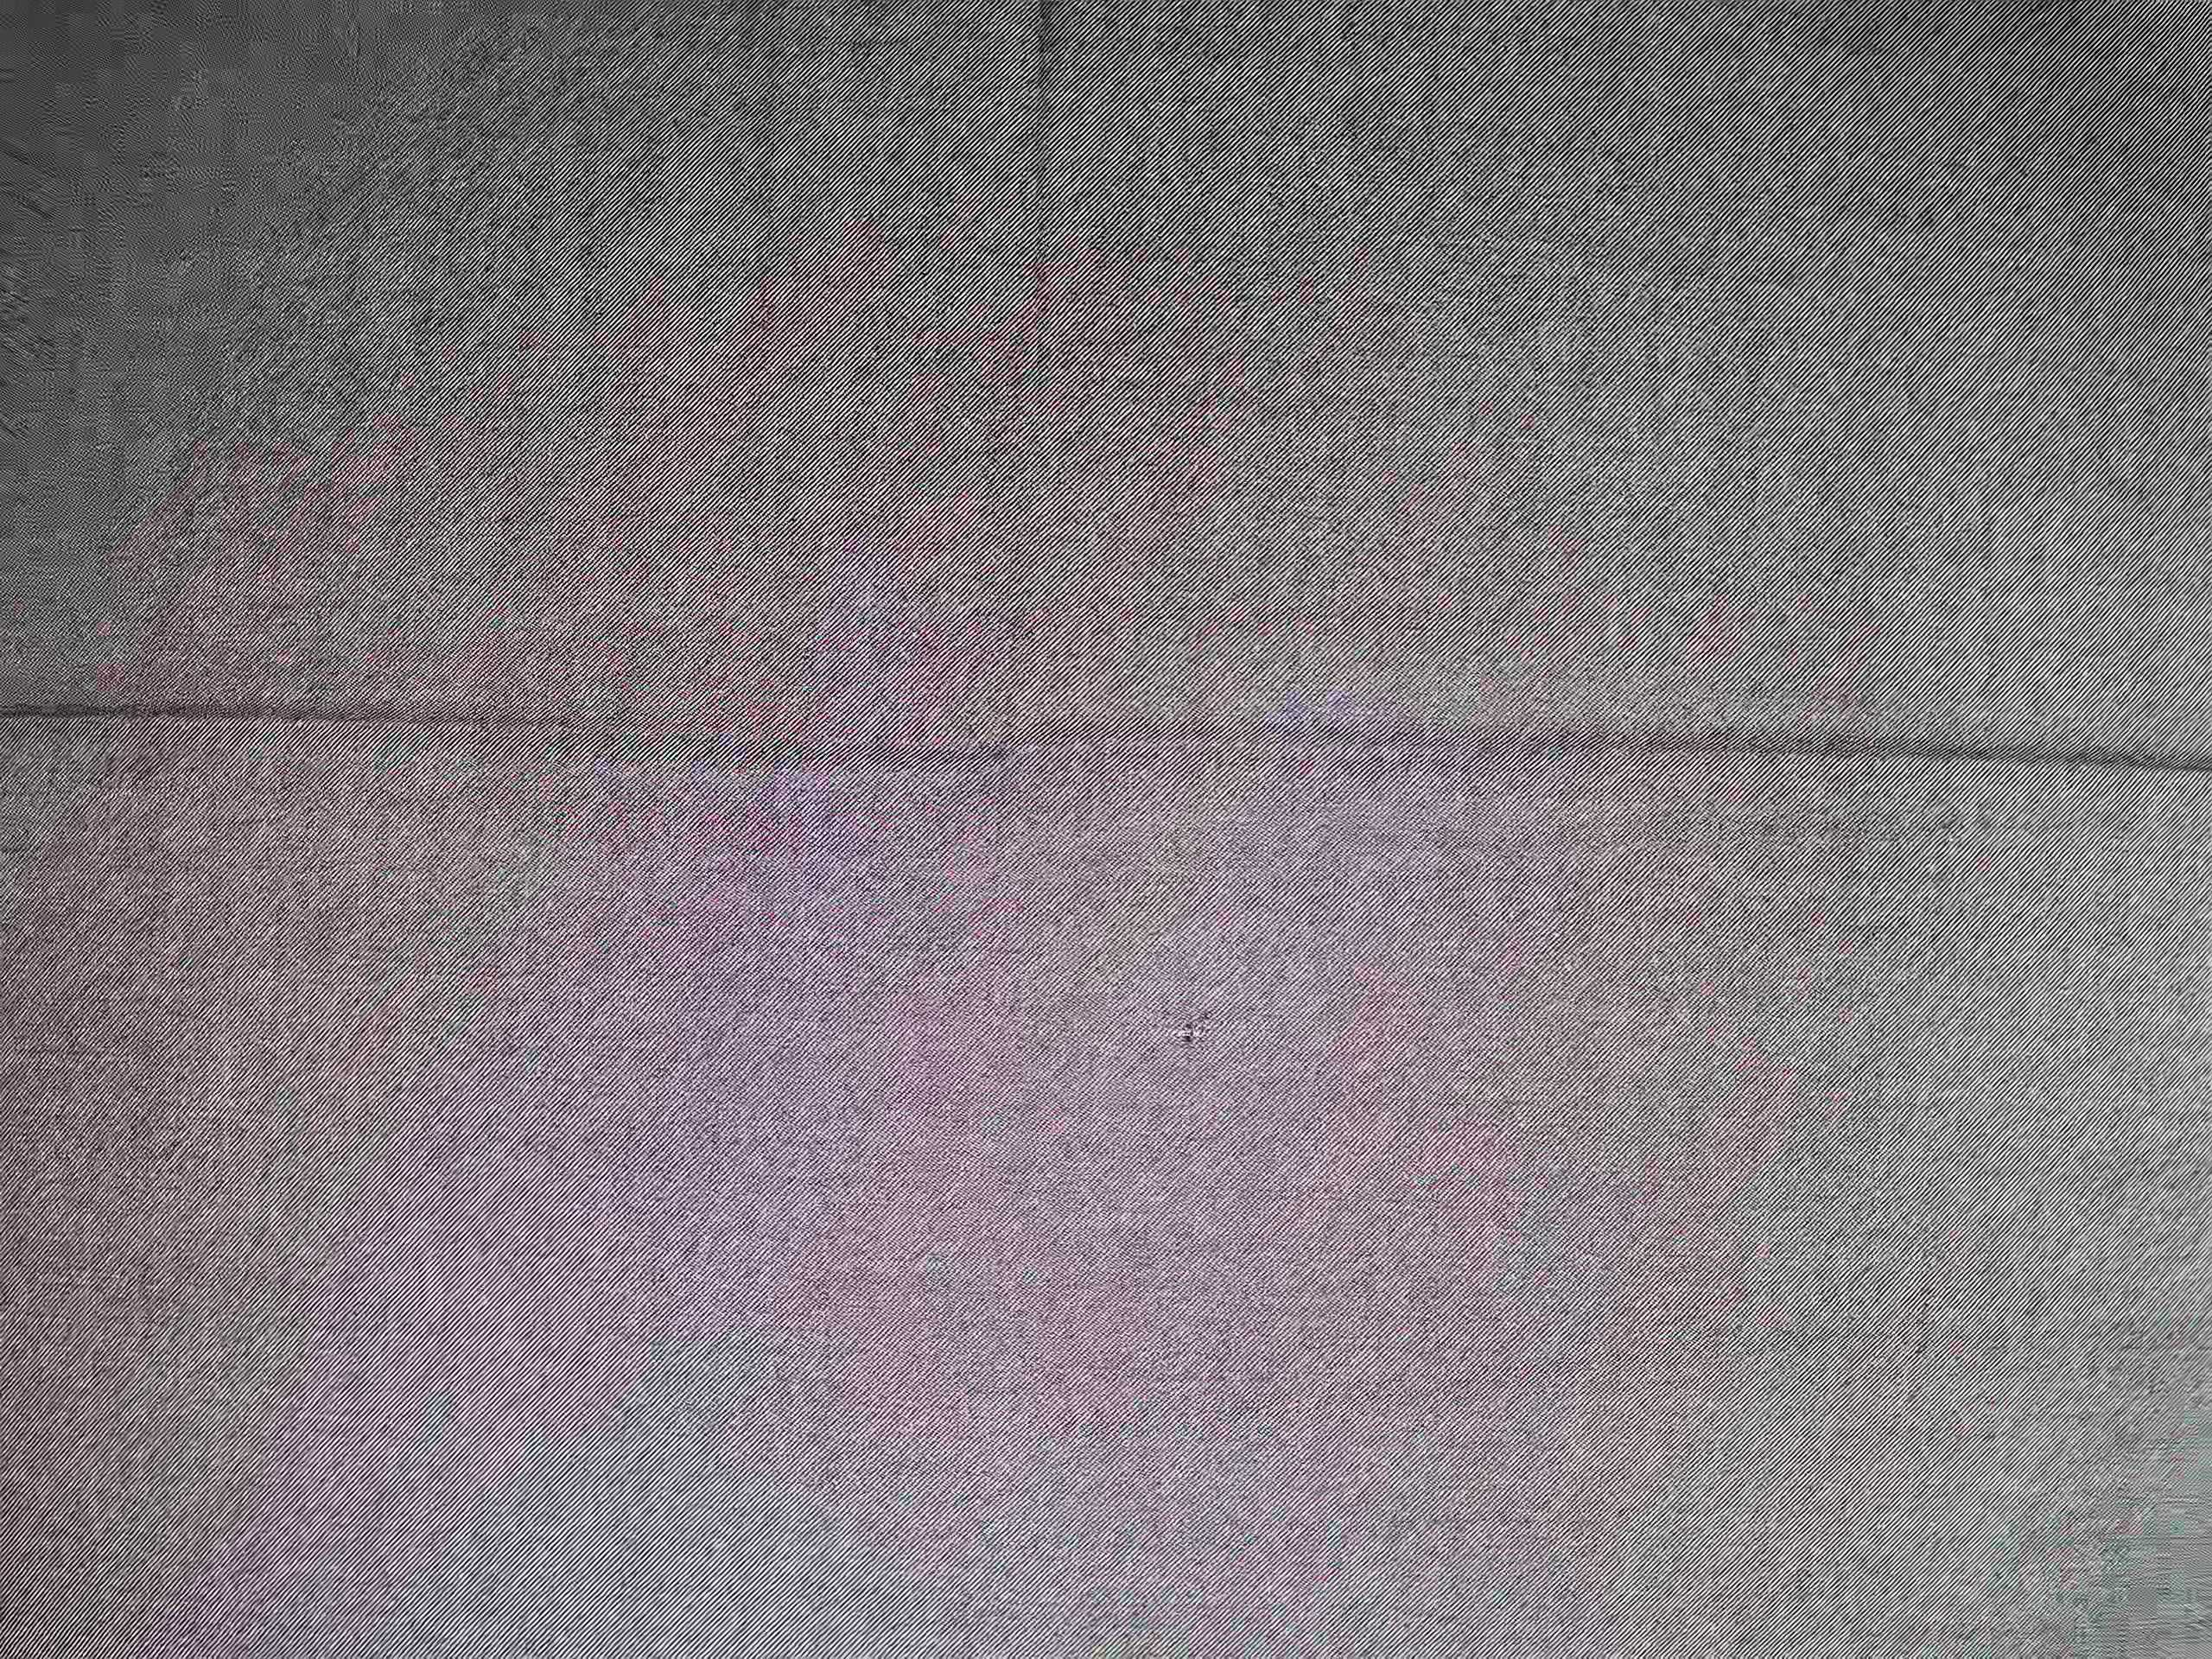knots: (1158, 1002, 1224, 1056)
